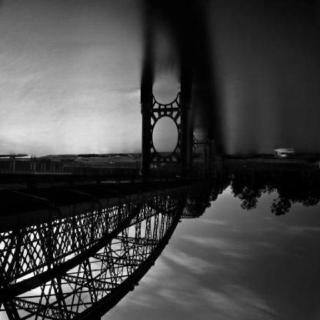other: (80, 222, 163, 296), (212, 182, 236, 204)
